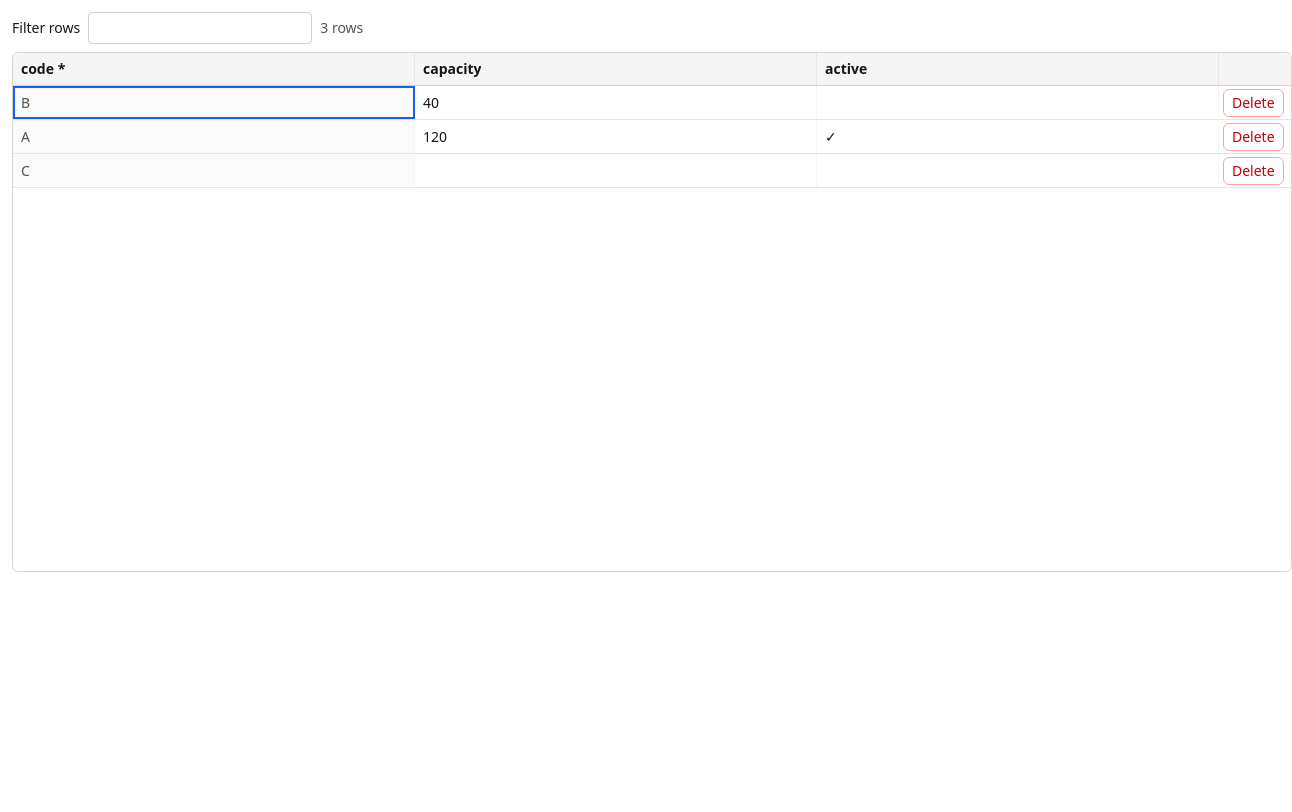
filters rows by any cell
Type "120" into the field labelled "Filter rows" at point(200, 28), box x1=88 y1=12 x2=312 y2=44
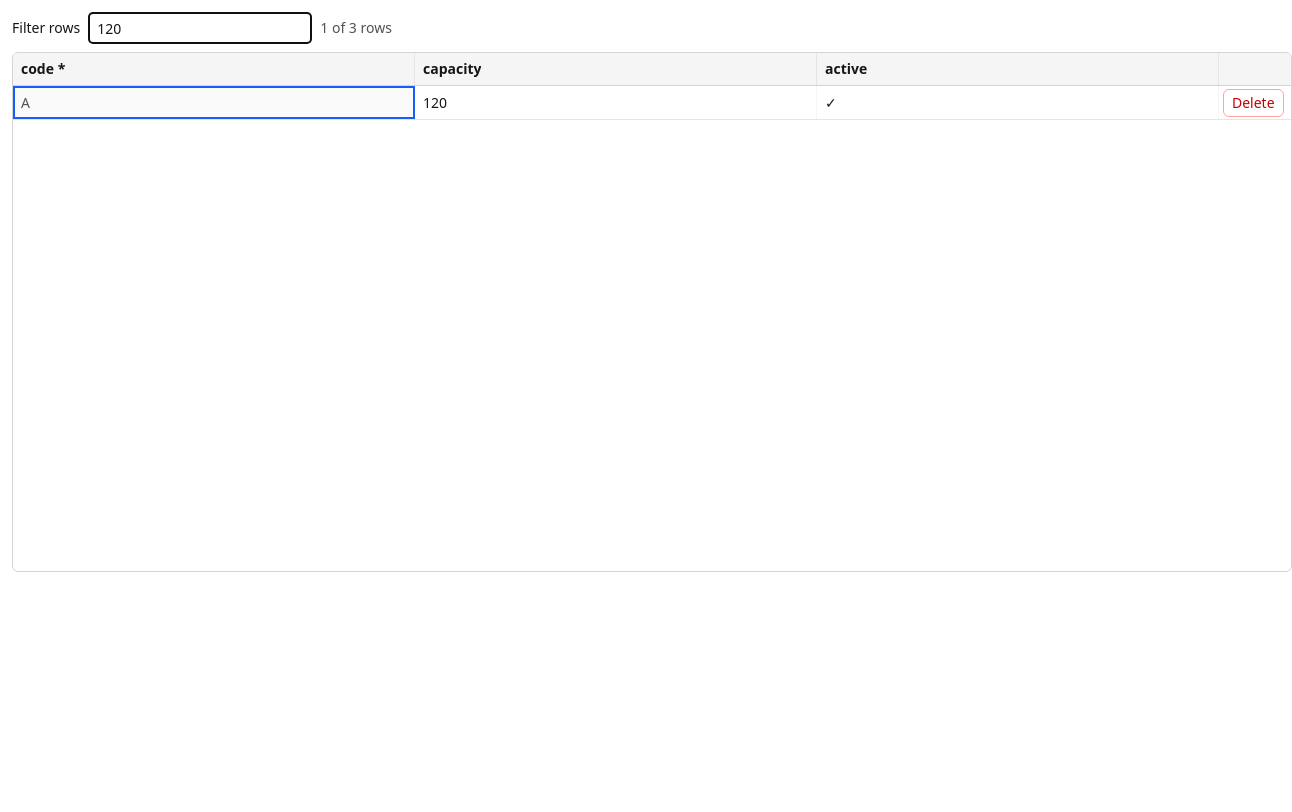
Check: the text "1 of 3 rows" is shown, box x1=320 y1=18 x2=392 y2=38
